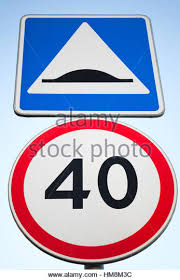Speed_limit_40km: (8, 122, 176, 262)
